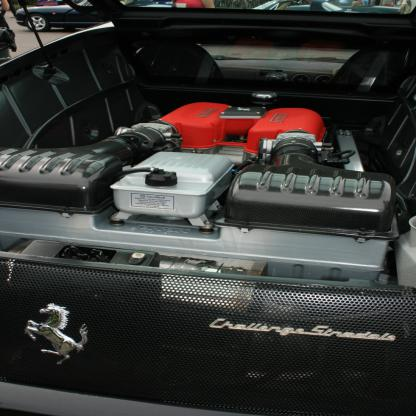Car: (15, 0, 408, 33)
